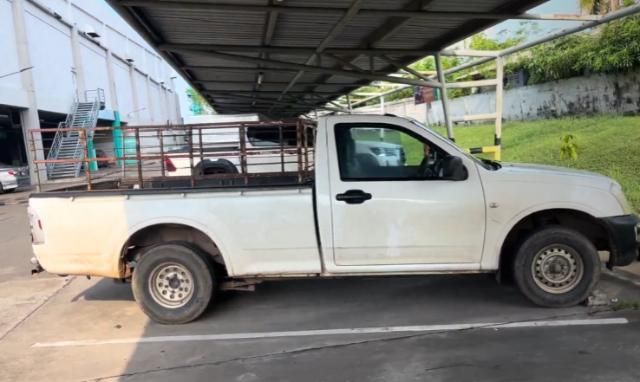pickup-truck: (27, 112, 640, 324)
